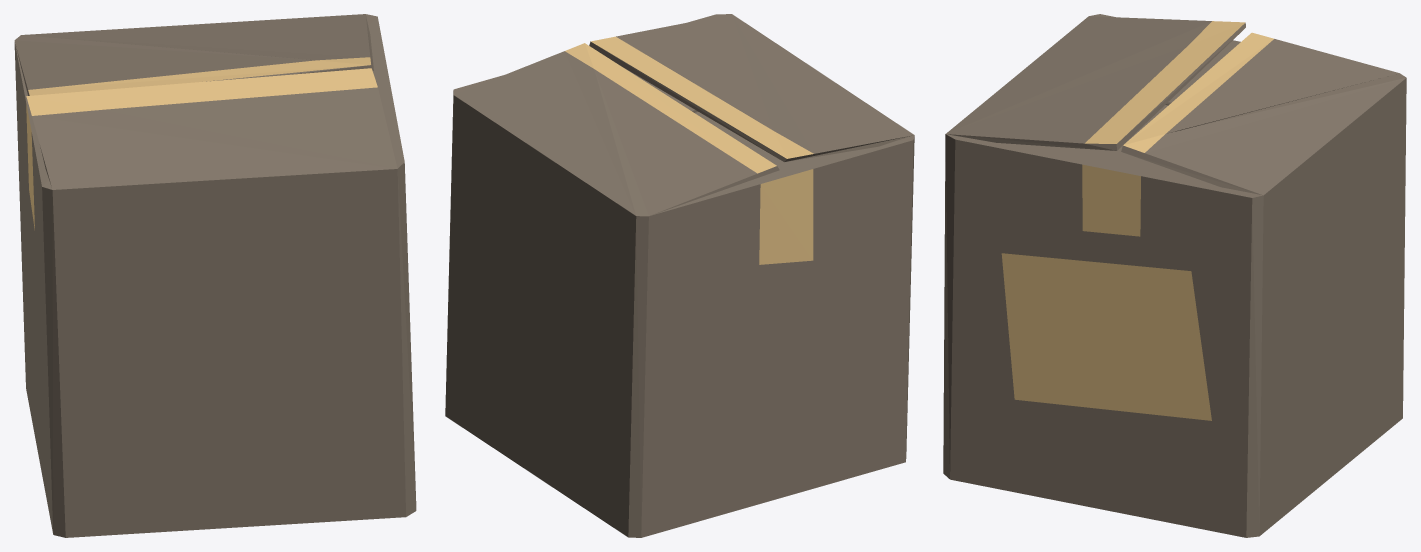
File: big_coaton.glb
3 views of the same model, side by side, from view 1: azimuth 30°, elevation 25°; view 2: azimuth 150°, elevation 25°; view 3: azimuth 270°, elevation 25° (orthographic). The views are drawn at different scales.
Parts seen in each view (by area): view 1: big_coaton; view 2: big_coaton; view 3: big_coaton.
Part boxes in pixels (bbox=[...]): big_coaton: bbox=[14, 14, 416, 537]; big_coaton: bbox=[445, 14, 914, 537]; big_coaton: bbox=[943, 14, 1406, 537].
Size of the model in its own units: 0.4318 by 0.3694 by 0.4252.
